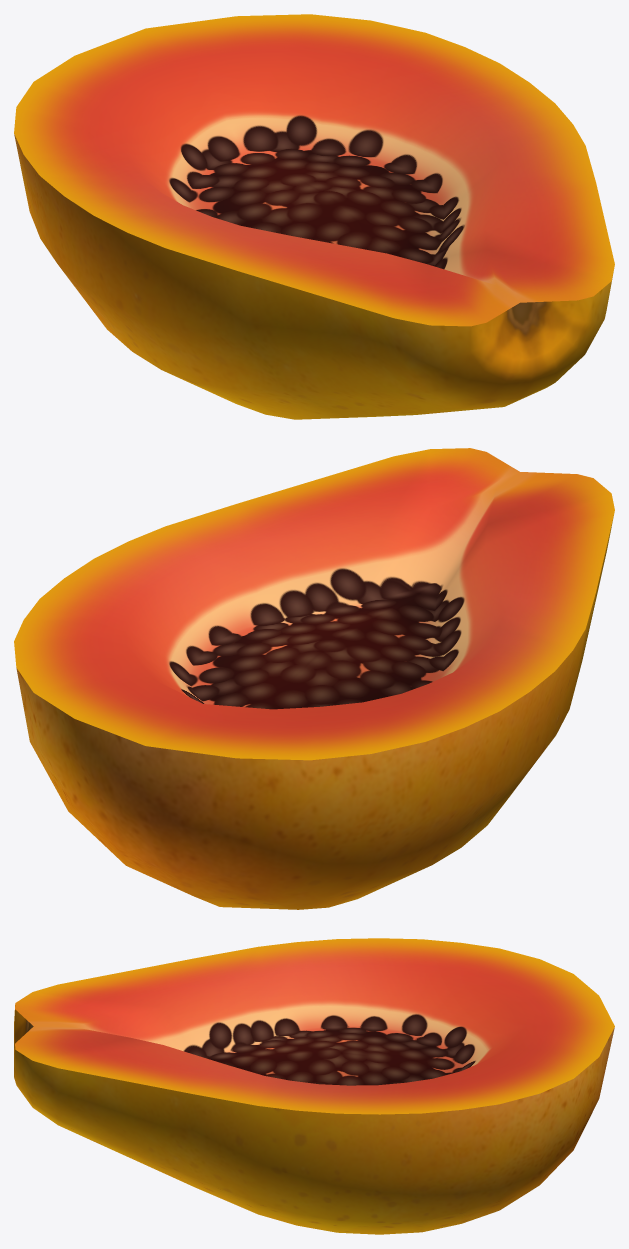
The model's file is Papaya_Ripe_Half.fbx.
3 renders of one model, top to bottom at view 1: azimuth 30°, elevation 25°; view 2: azimuth 150°, elevation 25°; view 3: azimuth 270°, elevation 25°, orthographic. The views are drawn at different scales.
Parts seen in each view (by area): view 1: Papaya_Ripe_Half; view 2: Papaya_Ripe_Half; view 3: Papaya_Ripe_Half.
Boxes of the visible parts, x1,y1,x2,y2 form: Papaya_Ripe_Half: (14, 14, 614, 419); Papaya_Ripe_Half: (14, 448, 614, 909); Papaya_Ripe_Half: (14, 938, 614, 1234).
Size of the model in its own units: 37.94 by 18.97 by 54.68.
